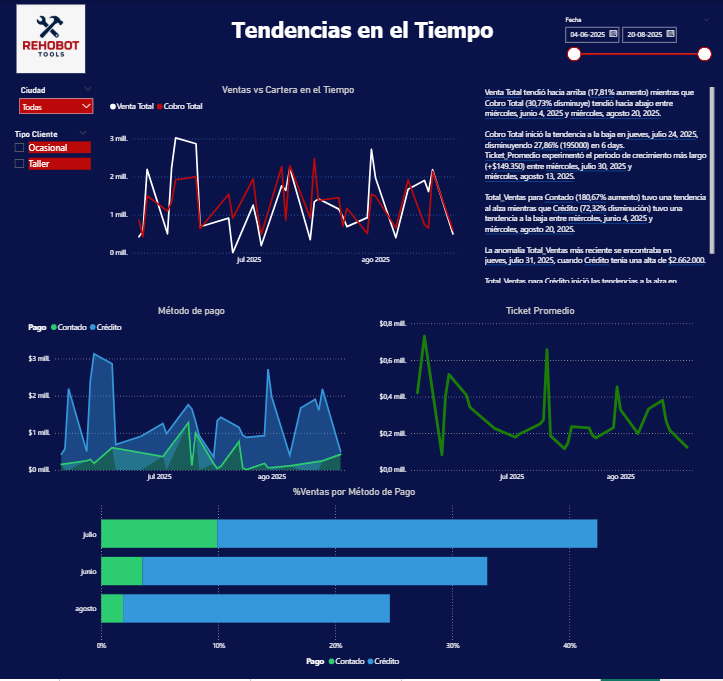

What the dashboard file says about the page in this screenshot:
{"tool":"powerbi","page":{"name":"Tendencias","canvas":[1280,1200],"ordinal":3},"visuals":[{"type":"textbox","box":[378.3,23.3,523.3,76.7],"z":0},{"type":"image","box":[23.7,1.7,131.8,131.8],"z":1000},{"type":"slicer","fields":{"Values":["Calendario.Fecha"]},"box":[986.2,23.9,279.9,90.7],"z":2000},{"type":"lineChart","title":"Ticket Promedio","fields":{"Y":["Medidas.Ticket_Promedio"],"Category":["Calendario.Fecha"]},"box":[664.1,536.8,578.6,322.1],"z":3000},{"type":"lineChart","title":"Ventas vs Cartera en el Tiempo","fields":{"Y":["Sum(Resumen_Diario.Venta_Total)","Sum(Resumen_Diario.Cobro_Total)"],"Category":["Calendario.Fecha"]},"box":[188,148,642,328],"z":4000},{"type":"stackedAreaChart","title":"Método de pago","fields":{"Category":["Calendario.Fecha"],"Series":["Ventas_Diarias.Pago"],"Y":["Medidas.Total_Ventas"]},"box":[45.7,536.8,586.5,322.1],"z":5000},{"type":"textbox","box":[850,148,416,356],"z":6000},{"type":"barChart","title":"%Ventas por Método de Pago","fields":{"Series":["Ventas_Diarias.Pago"],"Y":["Medidas.Total_Ventas"],"Category":["Calendario.MesNombre"]},"box":[124.6,858.9,1002.1,328.7],"z":7000},{"type":"slicer","fields":{"Values":["Ventas_Diarias.Ciudad"]},"box":[23.7,147,150.4,69.3],"z":8000},{"type":"slicer","fields":{"Values":["Ventas_Diarias.Tipo Cliente"]},"box":[14,224,152,88],"z":9000}]}

Visuals, with their boxes in screenshot pixels (x1, y1, x2, y2), scaled from the page's 1280x1200 canvas onto the 723x681 screenshot:
textbox: (left=214, top=13, right=509, bottom=57)
image: (left=13, top=1, right=88, bottom=76)
slicer - Calendario.Fecha: (left=557, top=14, right=715, bottom=65)
"Ticket Promedio" lineChart: (left=375, top=305, right=702, bottom=487)
"Ventas vs Cartera en el Tiempo" lineChart: (left=106, top=84, right=469, bottom=270)
"Método de pago" stackedAreaChart: (left=26, top=305, right=357, bottom=487)
textbox: (left=480, top=84, right=715, bottom=286)
"%Ventas por Método de Pago" barChart: (left=70, top=487, right=636, bottom=674)
slicer - Ventas_Diarias.Ciudad: (left=13, top=83, right=98, bottom=123)
slicer - Ventas_Diarias.Tipo Cliente: (left=8, top=127, right=94, bottom=177)
